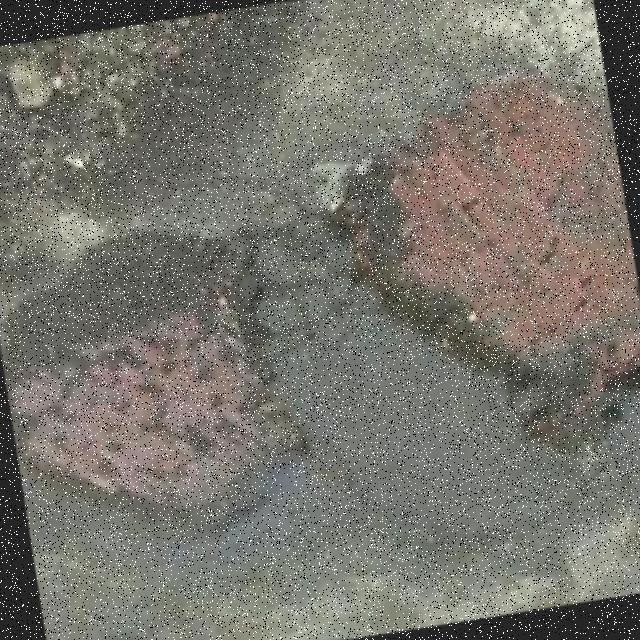Pothole: (334, 73, 640, 456), (1, 229, 298, 503)
